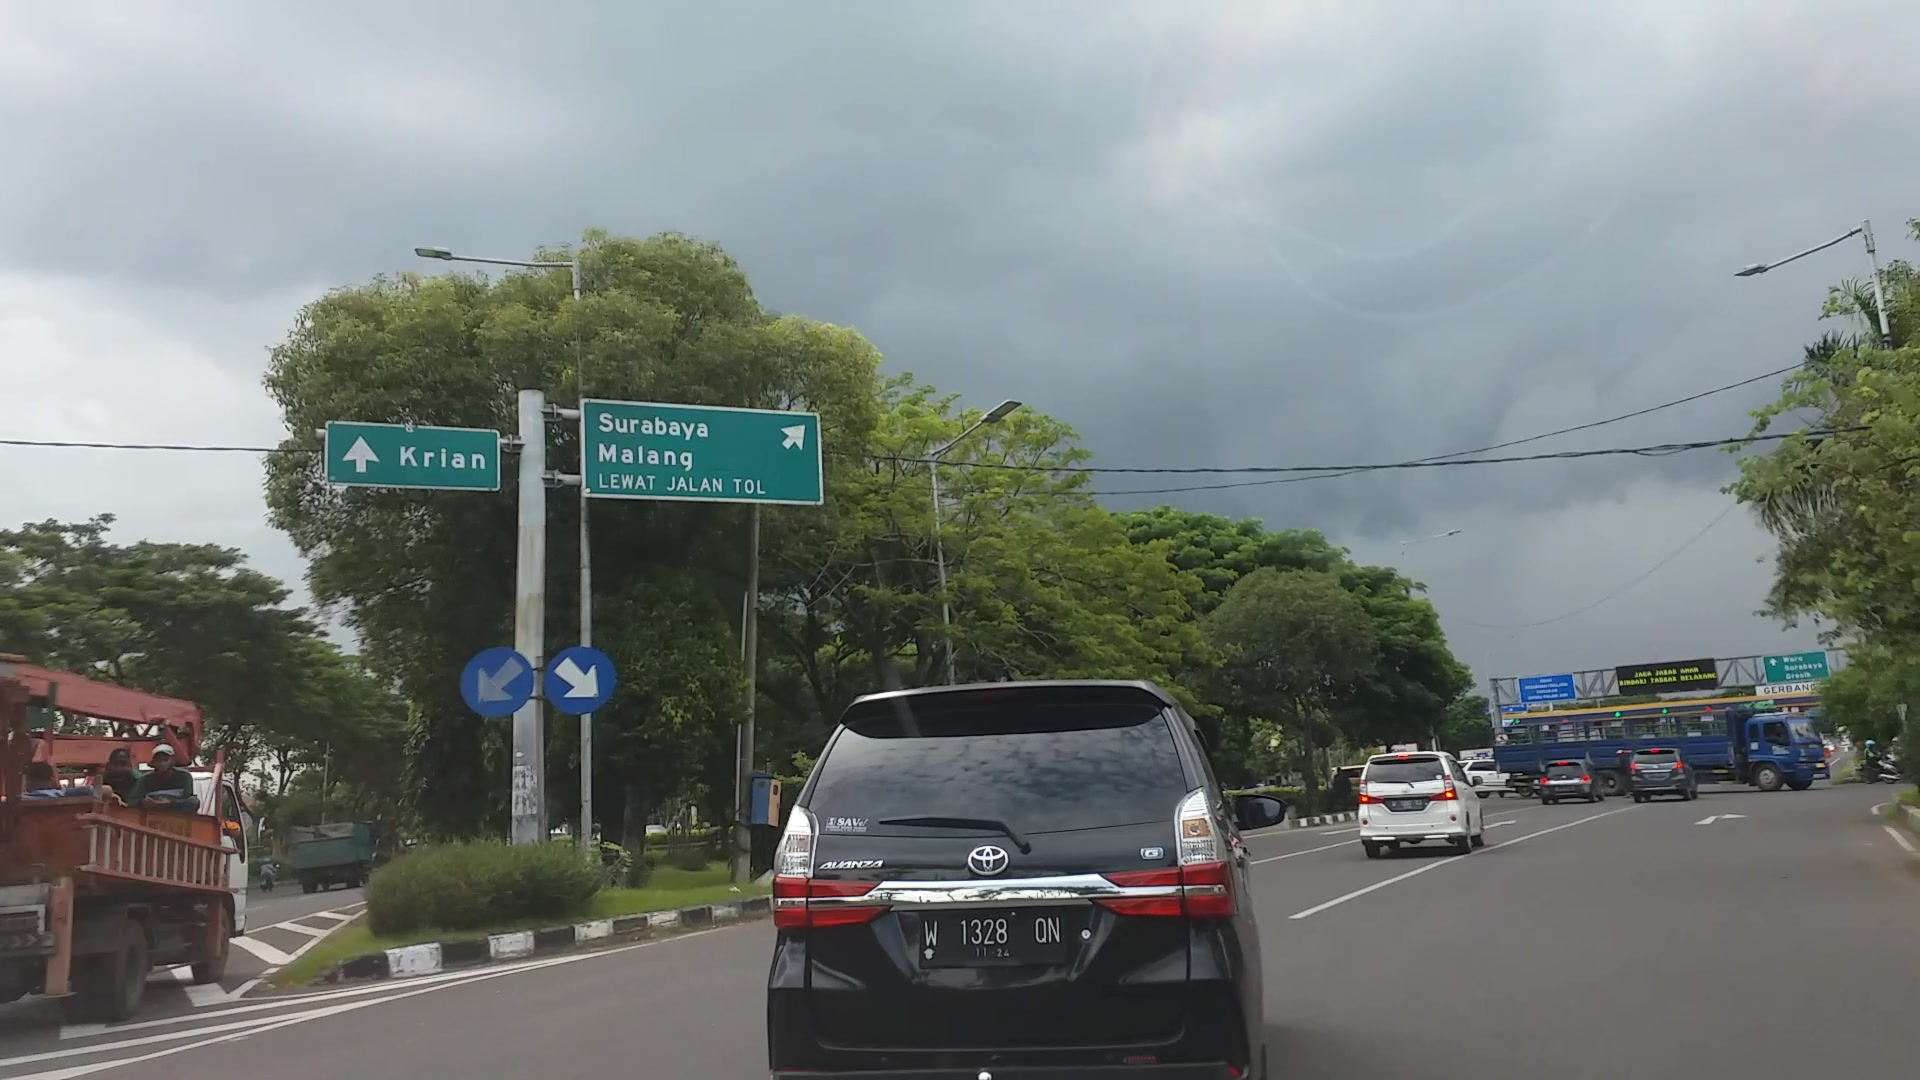plate_positive: (919, 911, 1067, 967)
